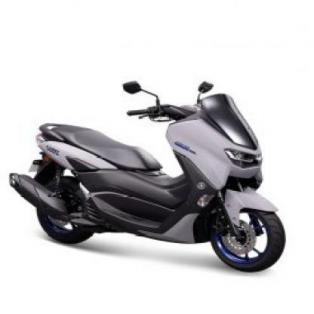Motocicleta: (9, 70, 289, 278)
